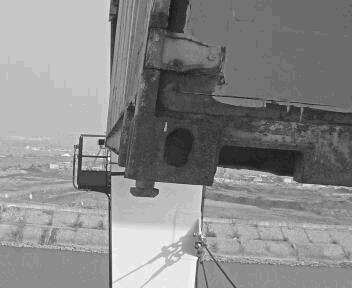twist_lock_1: (123, 175, 166, 205)
